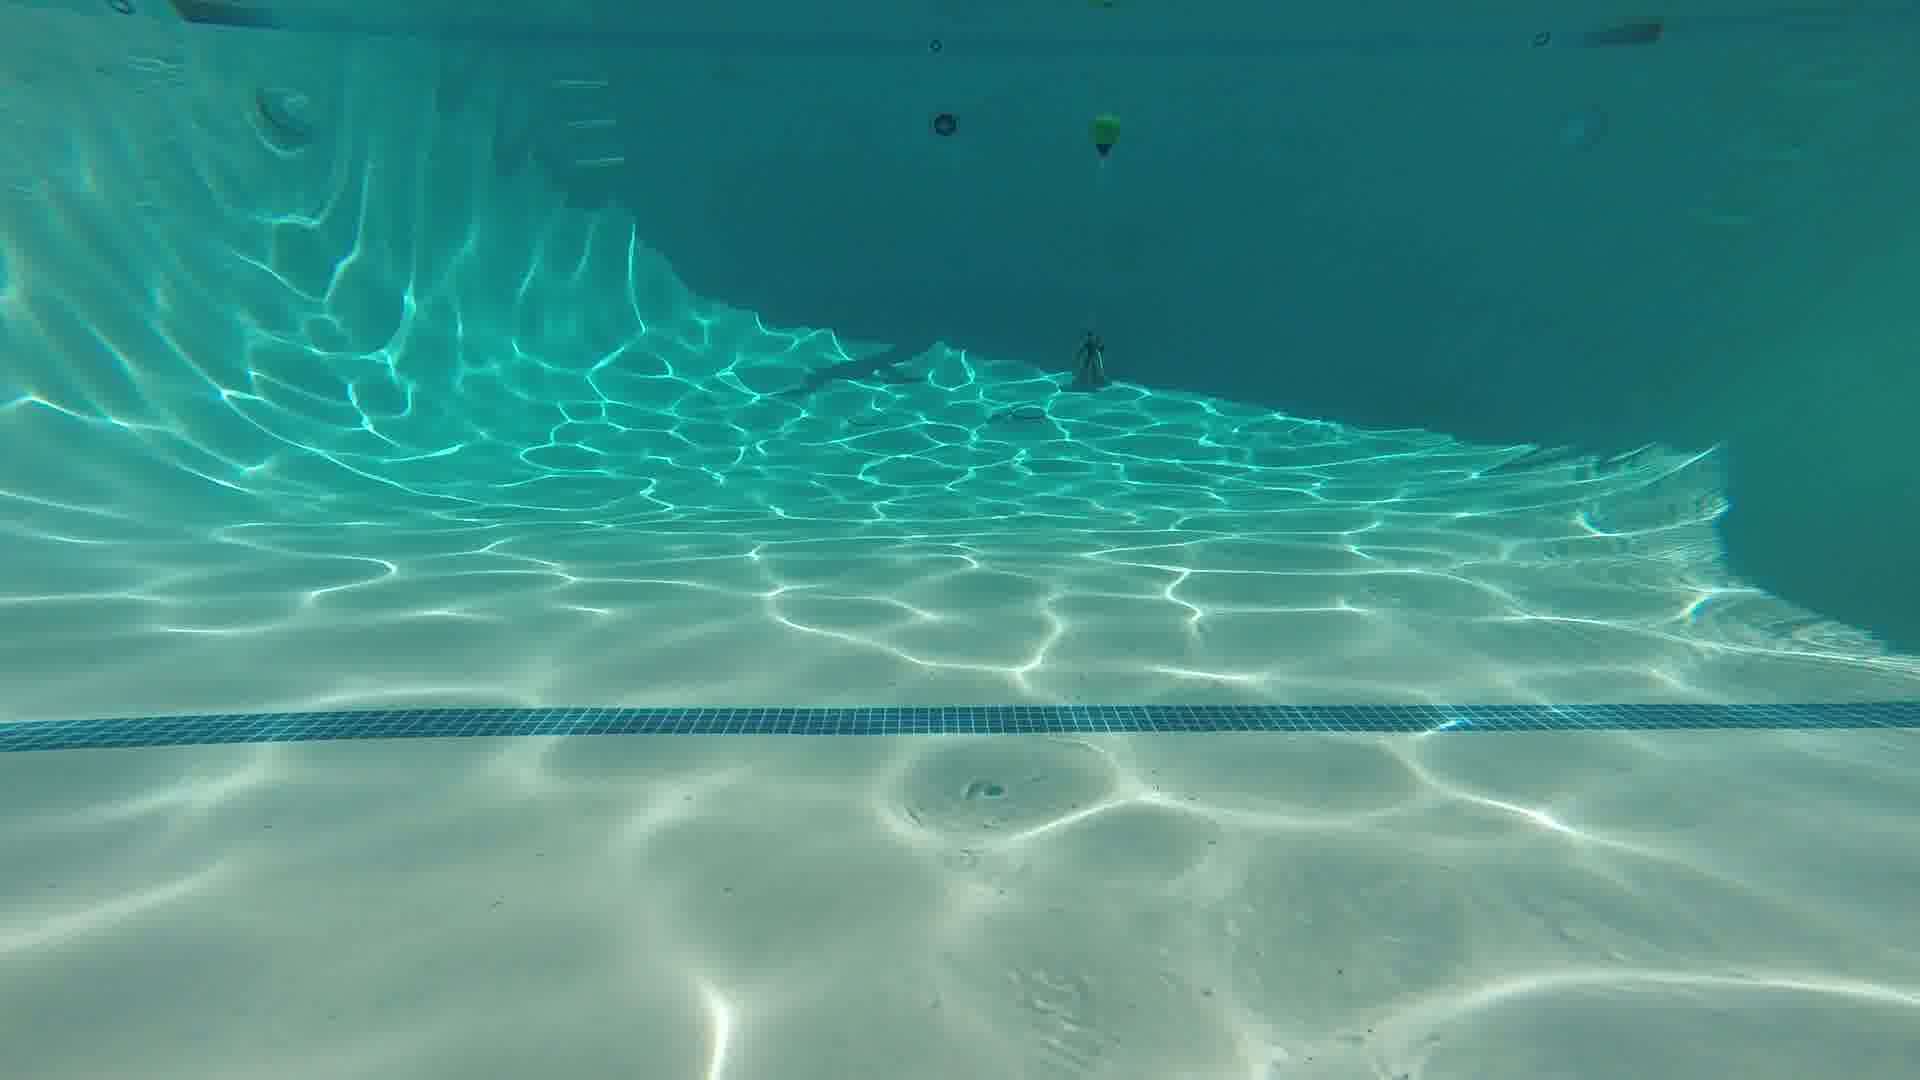yellow buoy: (1085, 108, 1124, 164)
